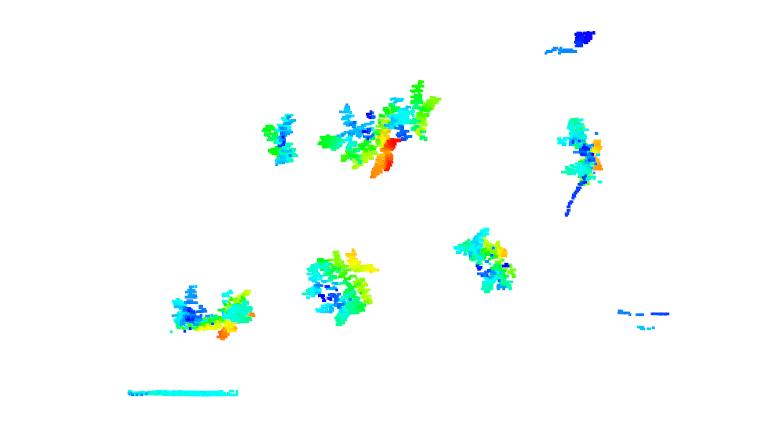chickpea: (316, 103, 402, 190), (293, 247, 381, 326), (170, 282, 256, 346), (457, 225, 526, 298), (382, 76, 444, 150), (553, 117, 606, 186), (256, 113, 309, 168)
